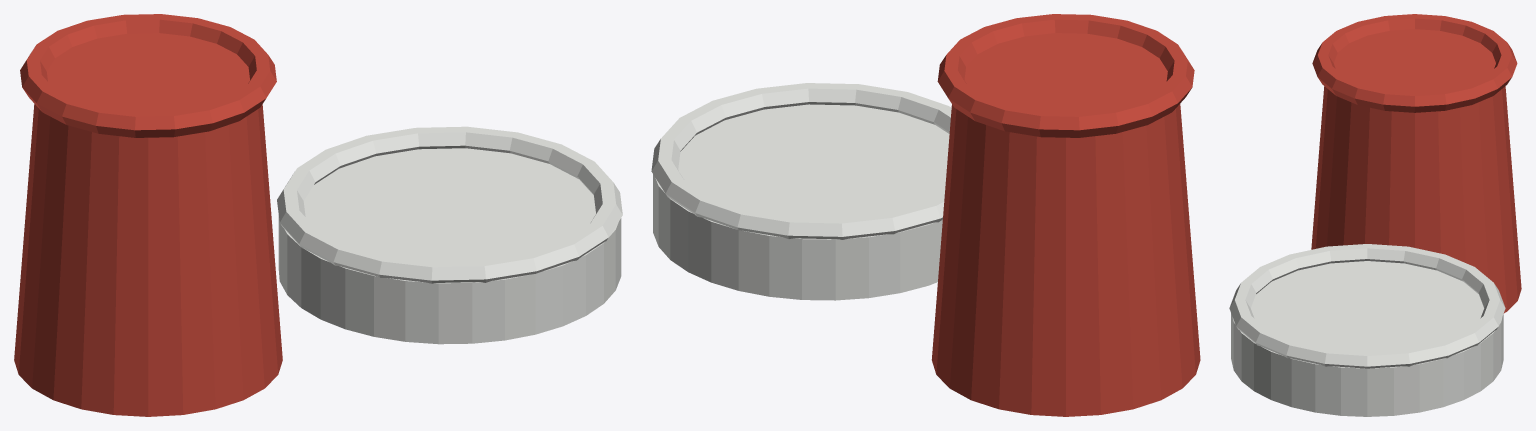
File: bucket_bowl_red.glb
3 views of the same model, side by side, from view 1: azimuth 30°, elevation 25°; view 2: azimuth 150°, elevation 25°; view 3: azimuth 270°, elevation 25° (orthographic). The views are drawn at different scales.
Parts seen in each view (by area): view 1: water bucket, wash bowl, bowl rim, bucket rim; view 2: water bucket, wash bowl, bowl rim, bucket rim; view 3: water bucket, wash bowl, bowl rim, bucket rim.
Part boxes in pixels (bbox=[...]): water bucket: bbox=[14, 33, 282, 416]; wash bowl: bbox=[278, 148, 621, 344]; bowl rim: bbox=[277, 126, 622, 283]; bucket rim: bbox=[20, 14, 276, 137]; water bucket: bbox=[931, 33, 1200, 416]; wash bowl: bbox=[653, 104, 949, 300]; bowl rim: bbox=[651, 83, 951, 239]; bucket rim: bbox=[937, 14, 1194, 137]; water bucket: bbox=[1311, 29, 1521, 313]; wash bowl: bbox=[1231, 261, 1503, 416]; bowl rim: bbox=[1229, 244, 1505, 368]; bucket rim: bbox=[1312, 14, 1517, 112].
Bounding box in the file's own units: 0.833 × 0.4356 × 0.493.
